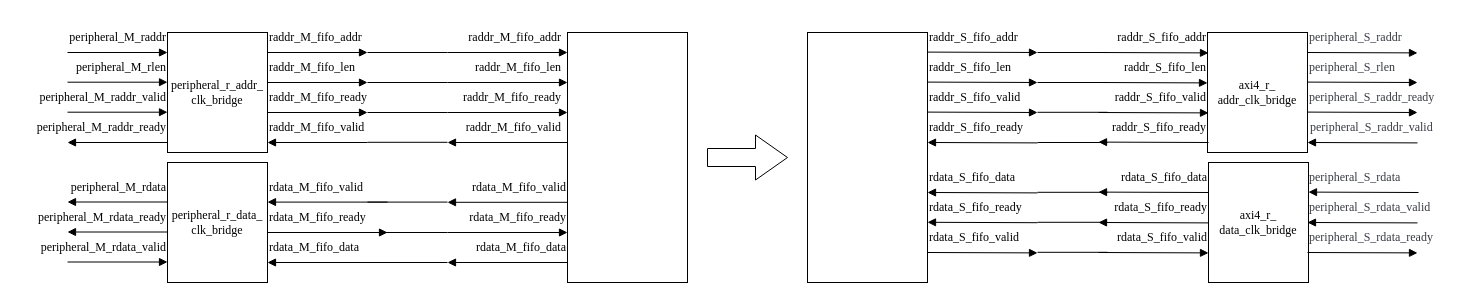
The diagram is 1475 pixels wide and 300 high, and some of its shapes have lost their labels. The centre of each missing label's shape, as x and y in pixels:
"axi4_full_ master_read_ interface" goes at pixel 627 157.
"axi4_full_ slave_read_ interface" goes at pixel 867 157.
